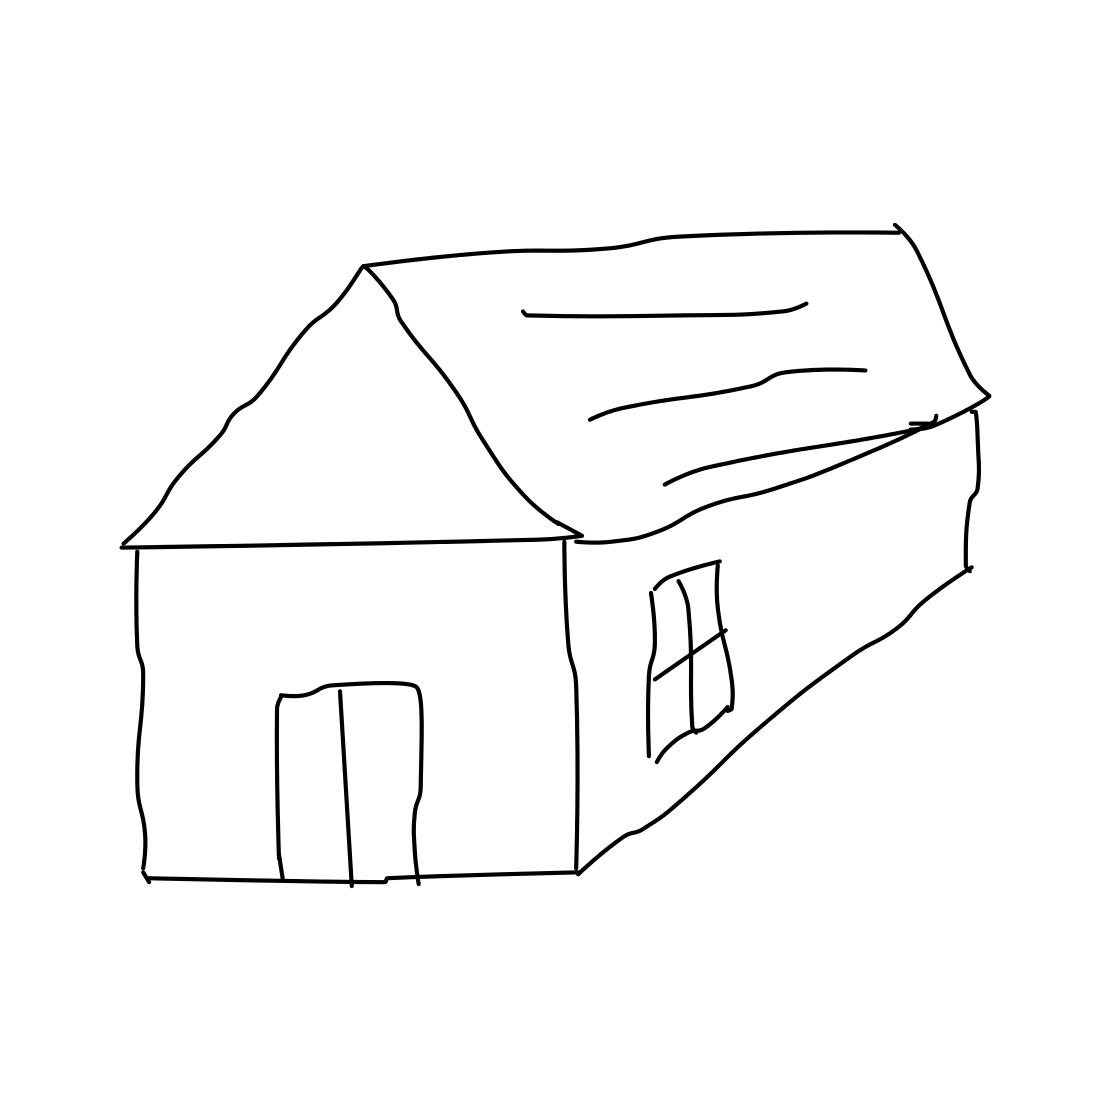House: (79, 187, 1024, 888)
